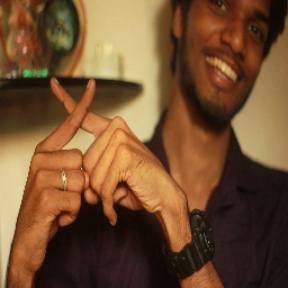X: (30, 68, 133, 170)
